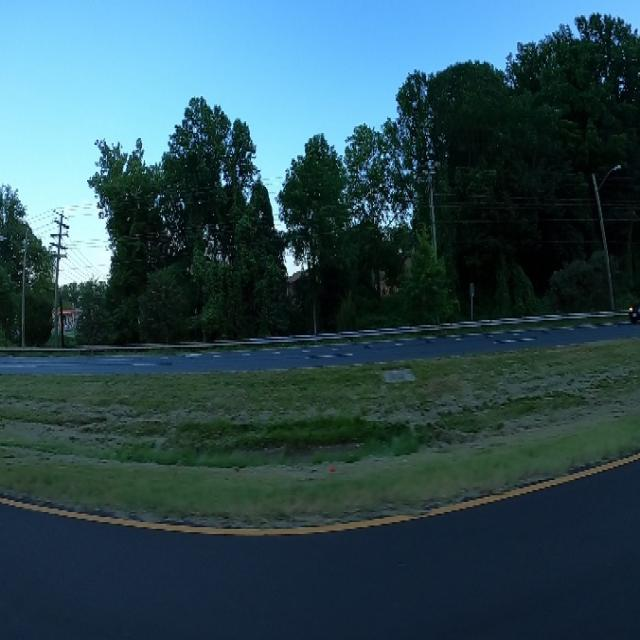cars: (623, 284, 640, 337)
